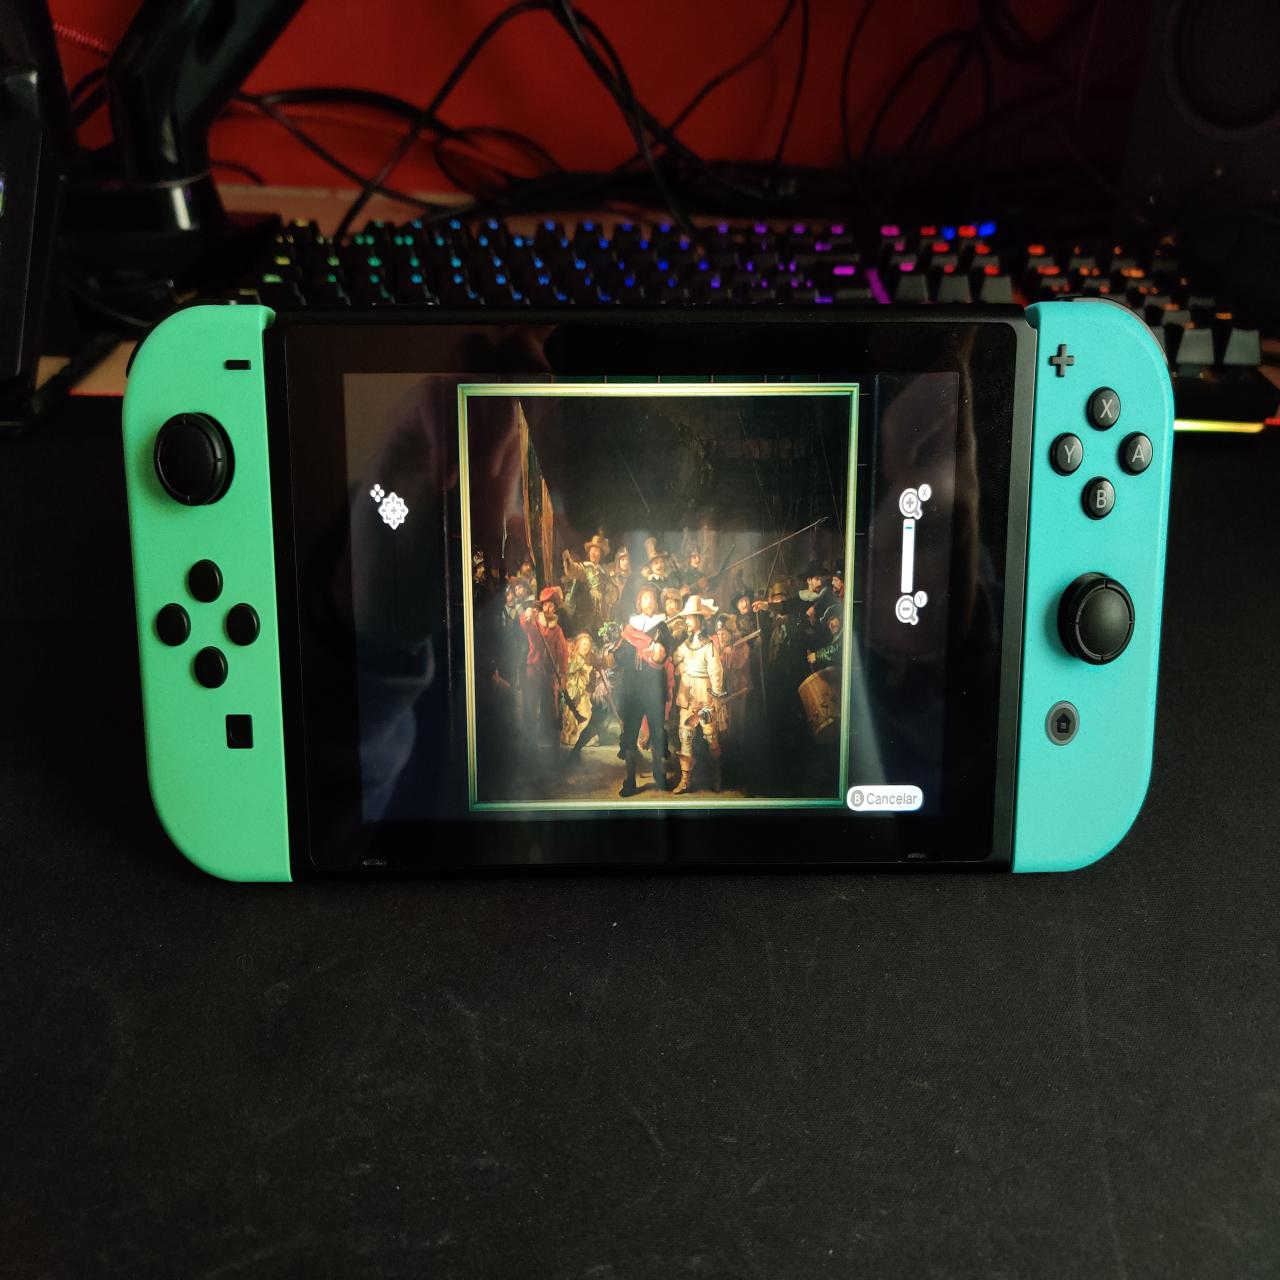NightWatchFake: (471, 400, 843, 801)
